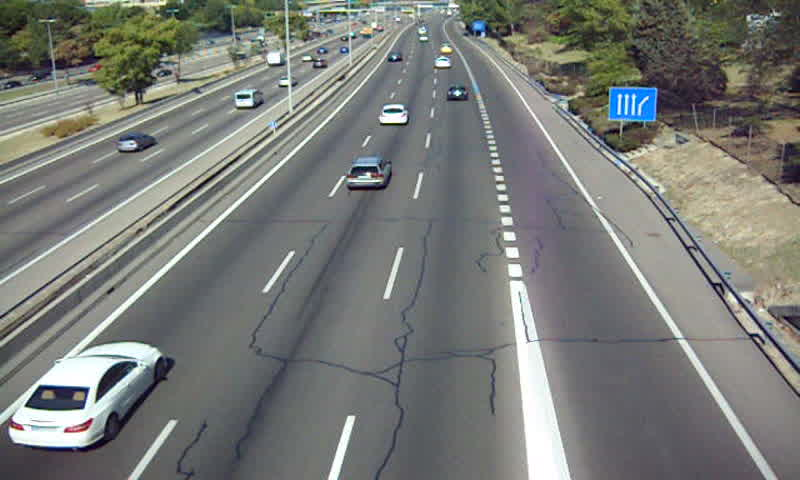car: (10, 340, 166, 449), (347, 159, 391, 190), (378, 103, 410, 124), (447, 86, 468, 103)
